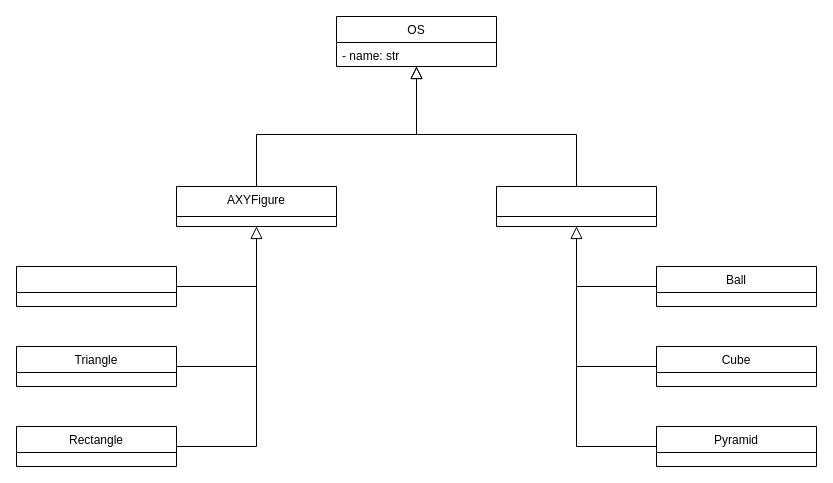
The diagram is 833 pixels wide and 483 high, and some of its shapes have lost their labels. Each missing label, with the centre of its shape:
AXYZFigure: the point at 576,206
Circle: the point at 96,286
